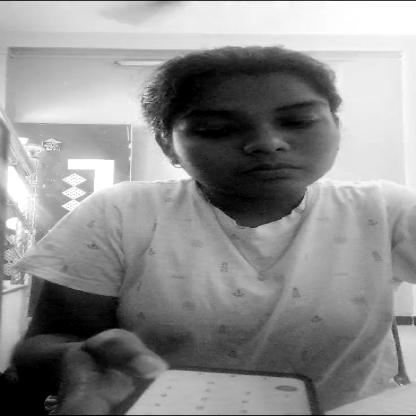Normal: (158, 58, 332, 204)
